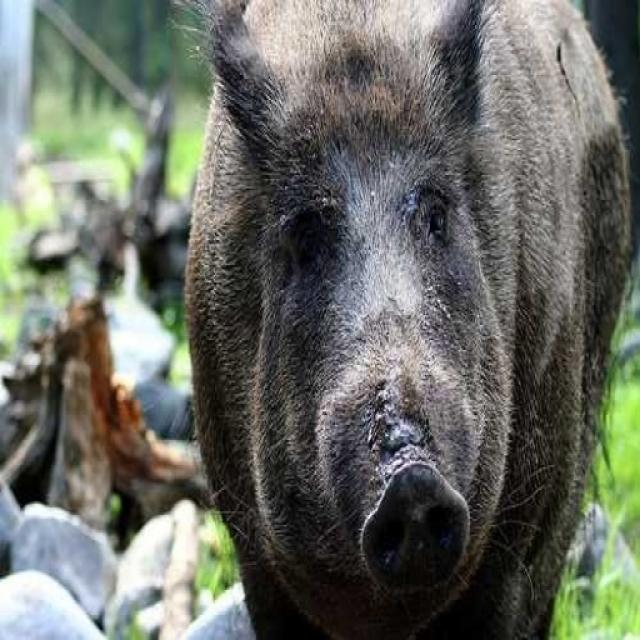pig: (147, 13, 640, 640)
